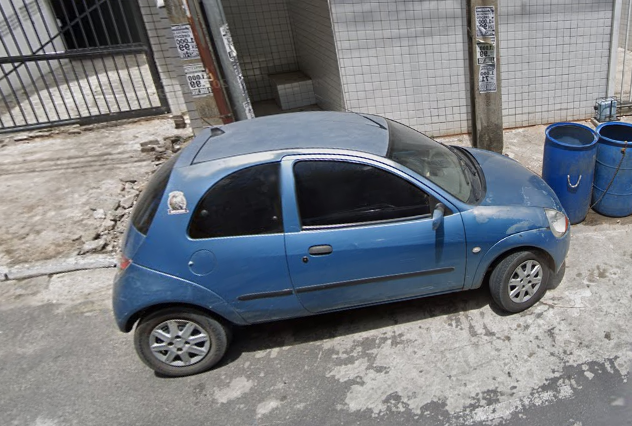car: (110, 106, 577, 382)
